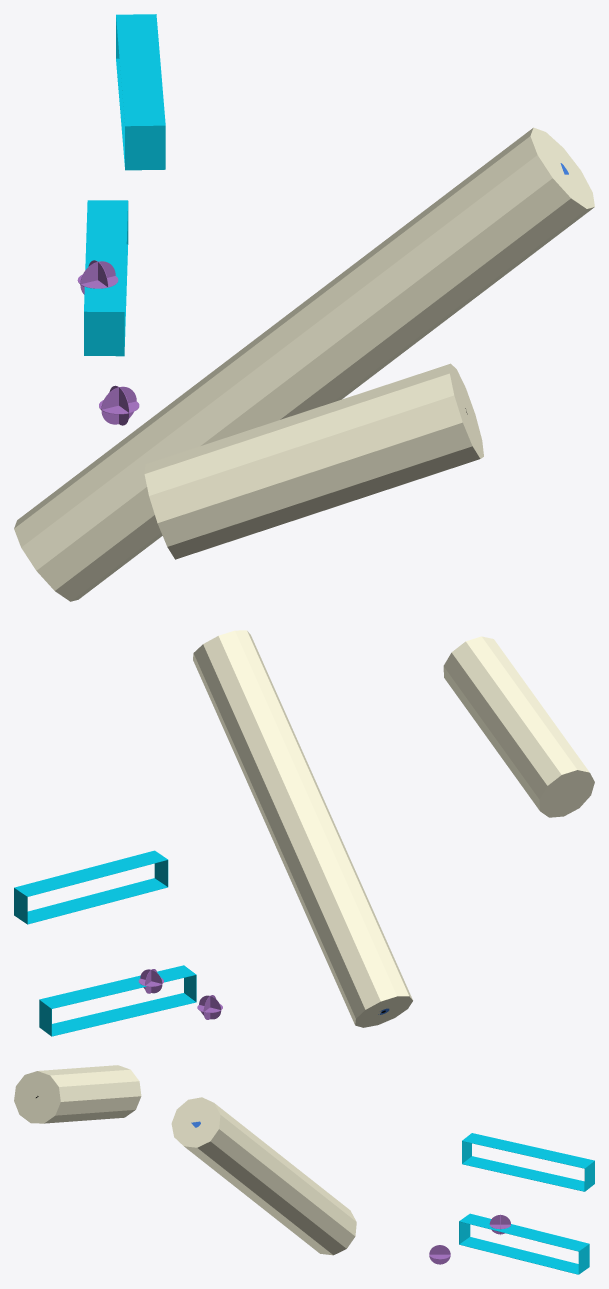
The model's file is tile_97.glb.
The picture shows the model from 3 angles, top to bottom: view 1: azimuth 30°, elevation 25°; view 2: azimuth 150°, elevation 25°; view 3: azimuth 270°, elevation 25°; orthographic projection. The views are drawn at different scales.
Bounding box in the file's own units: 1.51 × 1.26 × 2.71.
